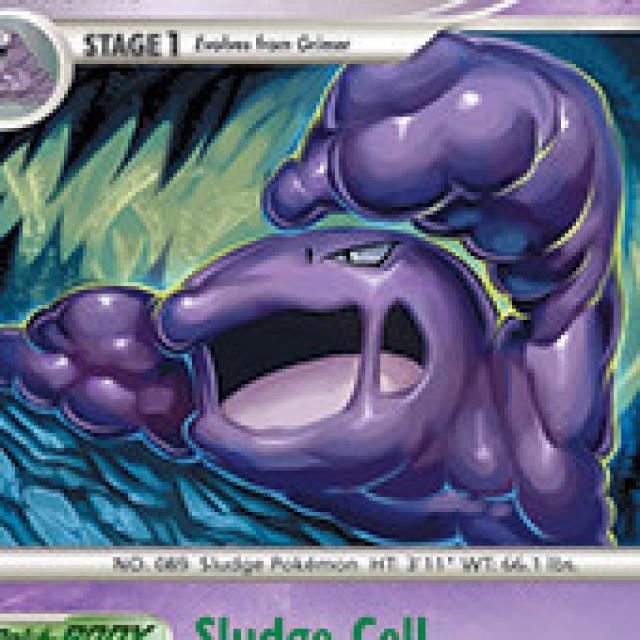Muk: (148, 230, 481, 472)
